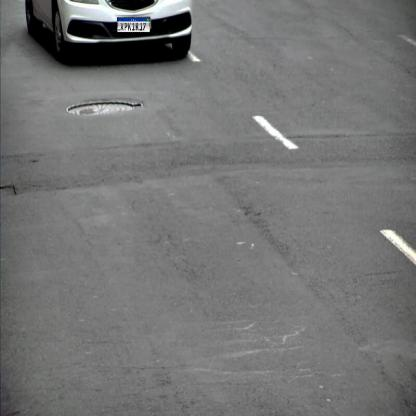PlacaM: (117, 17, 150, 33)
